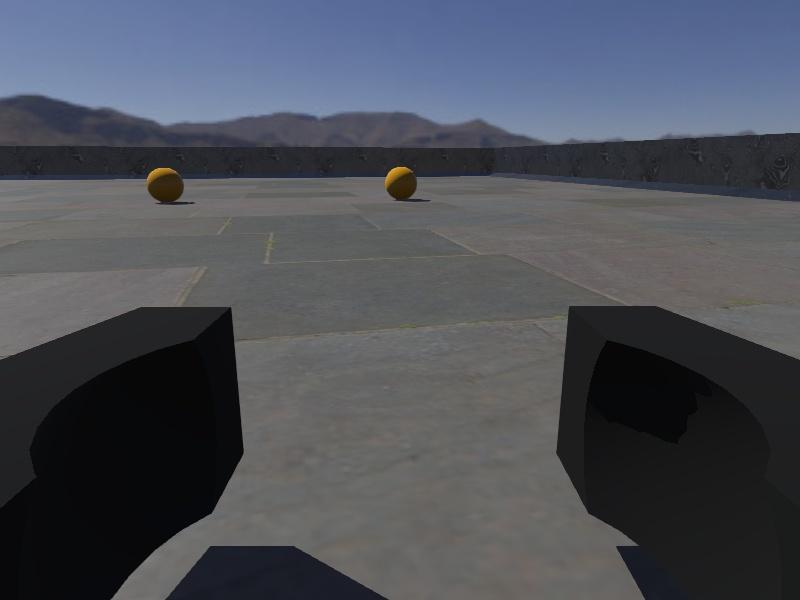orange ball: (145, 166, 185, 205), (383, 165, 418, 202)
